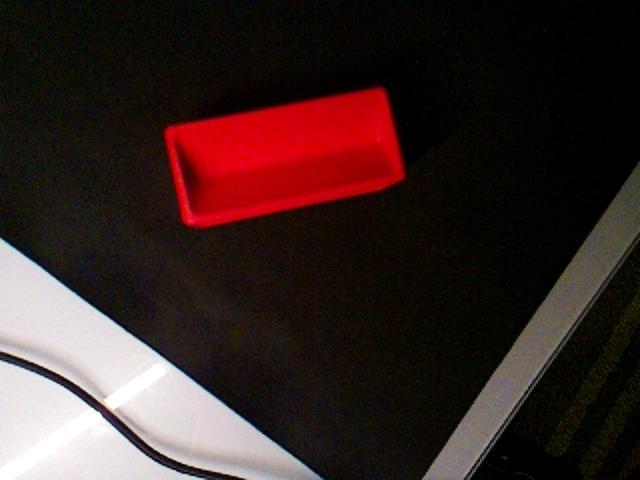red: (162, 84, 408, 230)
